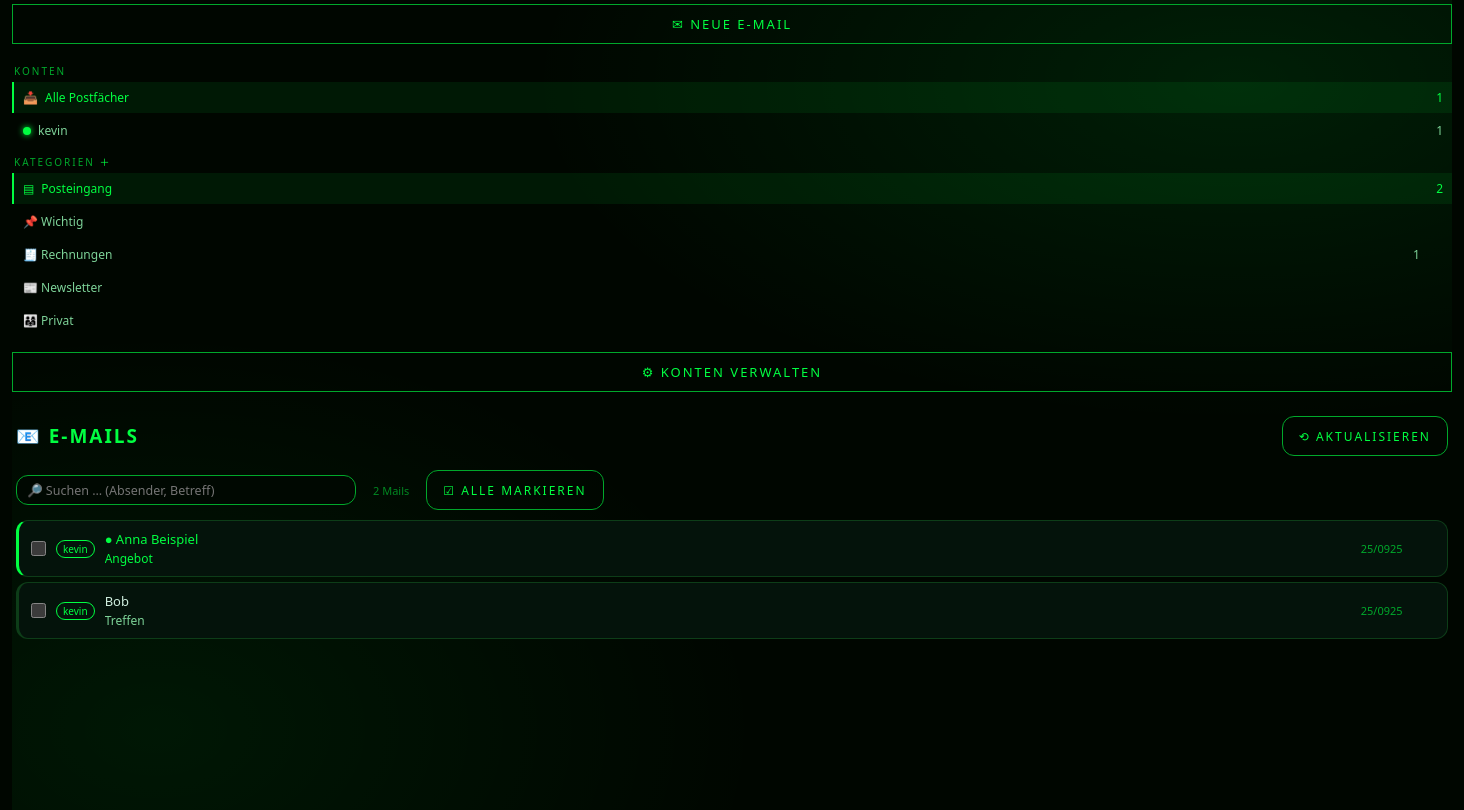
Test: Liste › zeigt Posteingang, Zähler, Suche und Kategoriefilter
expect the text "Angebot" is shown: met, box [105,550,153,567]
expect the text "Treffen" is shown: met, box [105,612,145,629]
Note: Suche geht über alle Kategorien
Type "rechnung" into the field with placeholder "🔎 Suchen … (Absender, Betreff)". click: (186, 490)
box: [16,475,356,505]
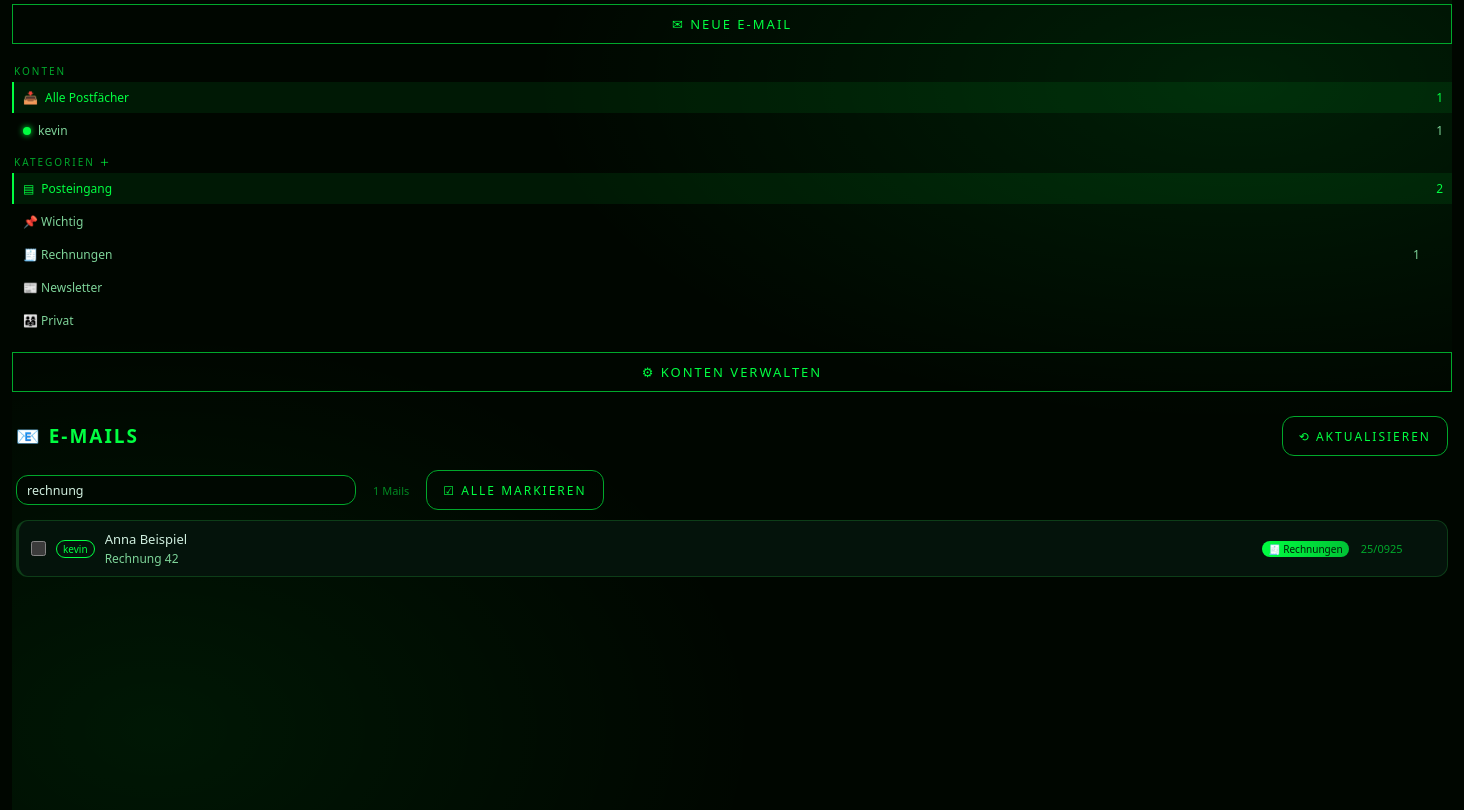
expect the text "Rechnung 42" is shown: met, box [105,550,178,567]
expect the text "Angebot" is gone: met
Clear the field with placeholder "🔎 Suchen … (Absender, Betreff)". click: (186, 490)
box: [16,475,356,505]
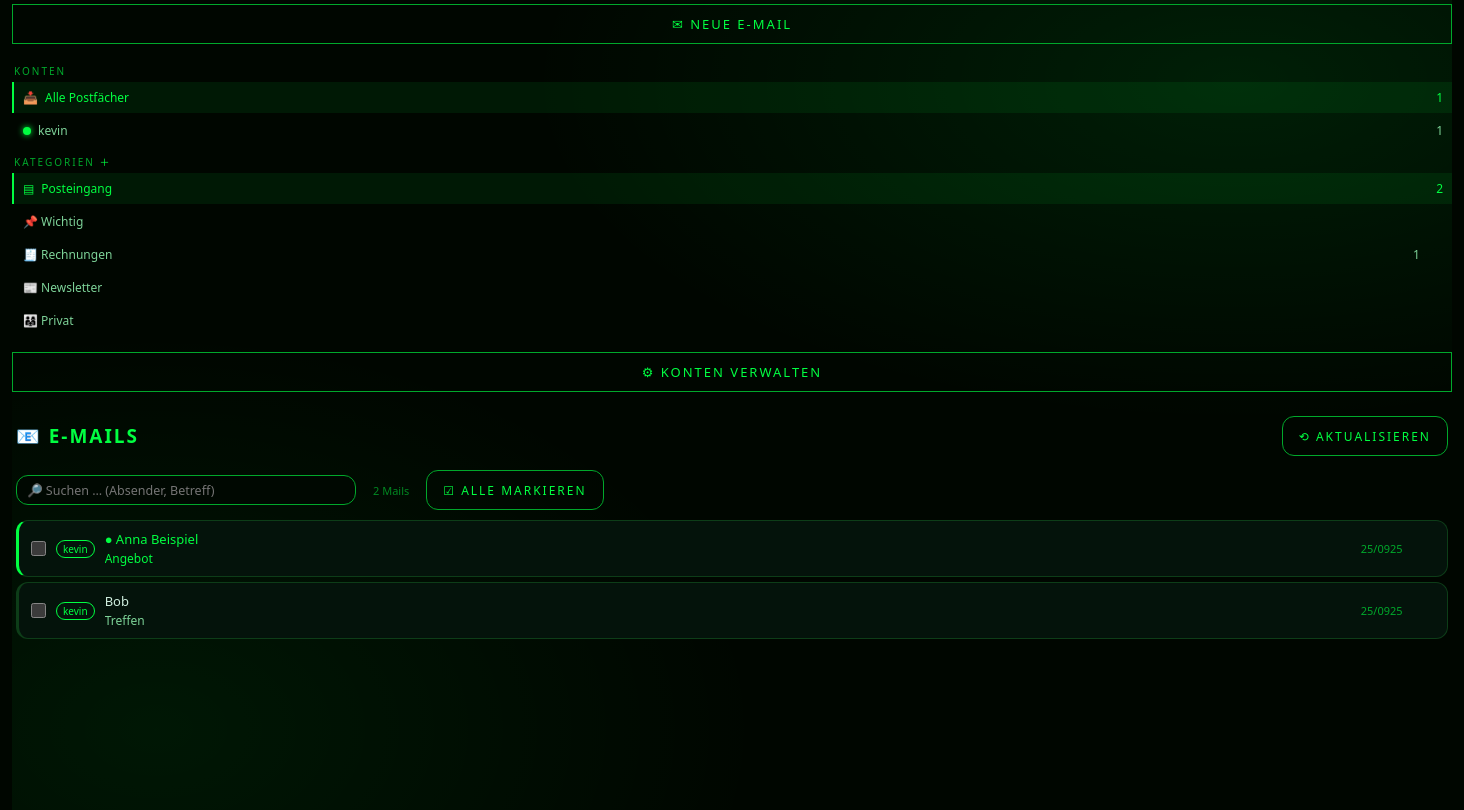
Click the text "🧾 Rechnungen". click: (68, 254)
box: [23,246,112,263]
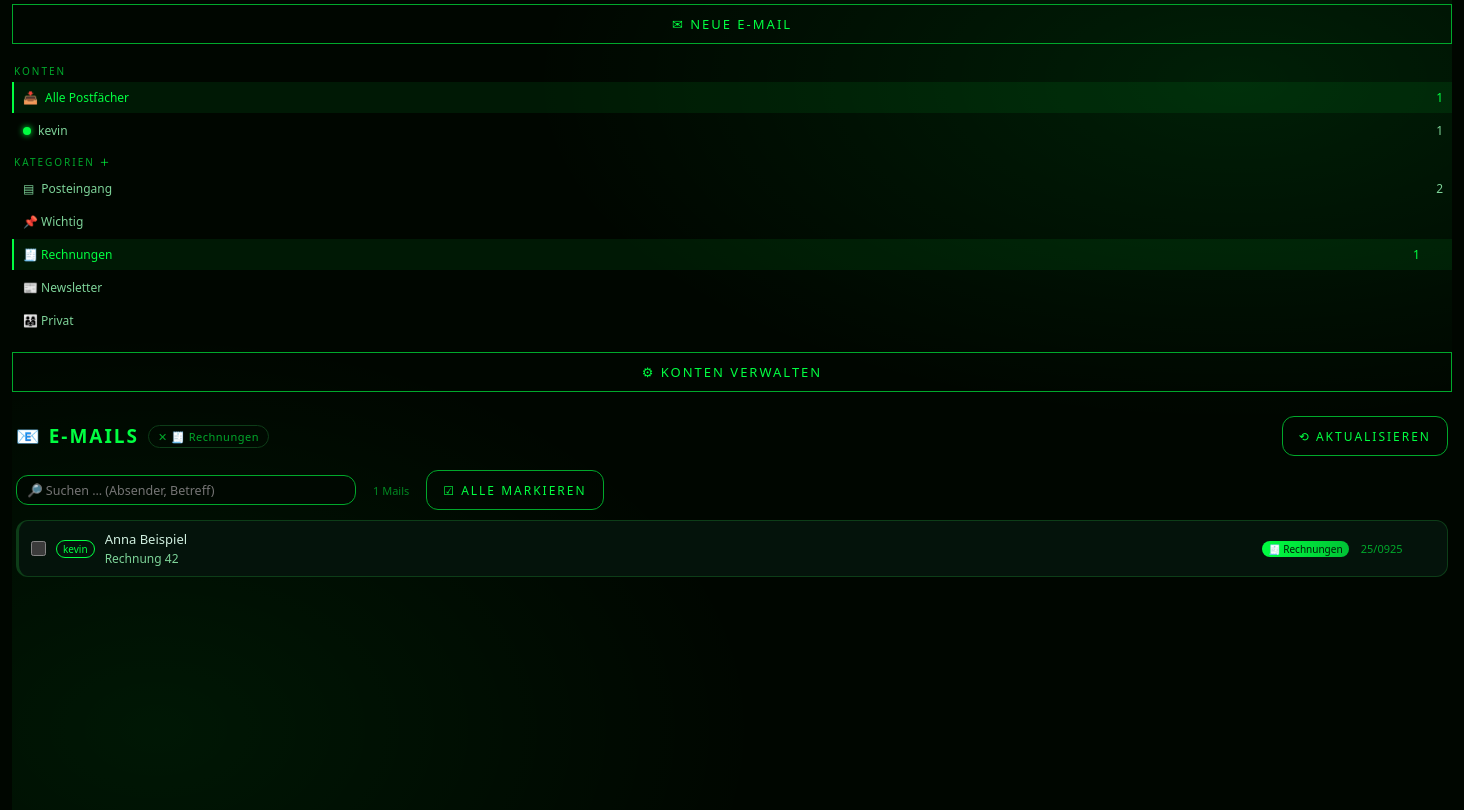
expect the text "Rechnung 42" is shown: met, box [105,550,178,567]
expect the text "Treffen" is gone: met
Click the text titled "Filter aufheben". click: (208, 436)
box: [148,424,269,448]
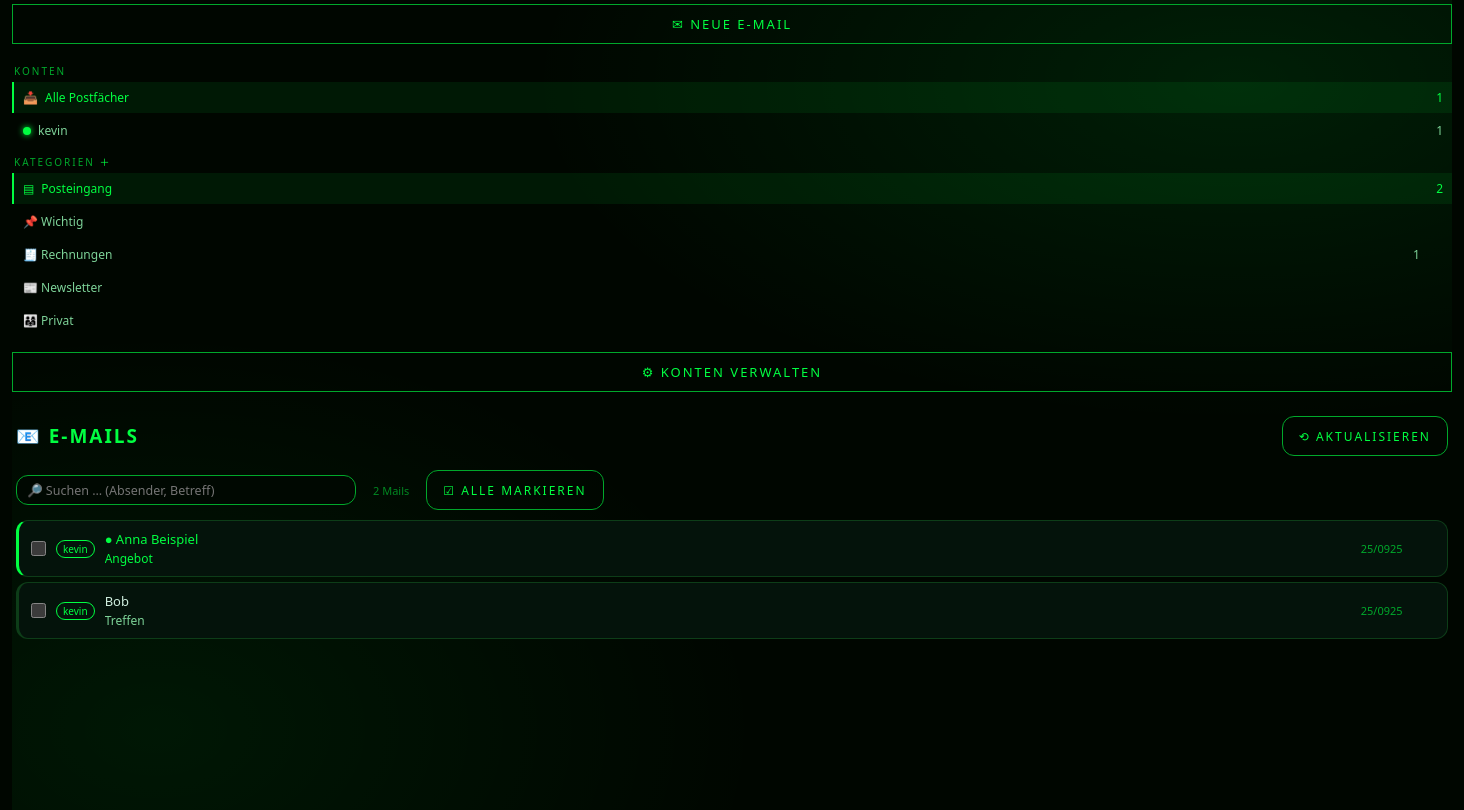
expect the text "Treffen" is shown: met, box [105,612,145,629]
